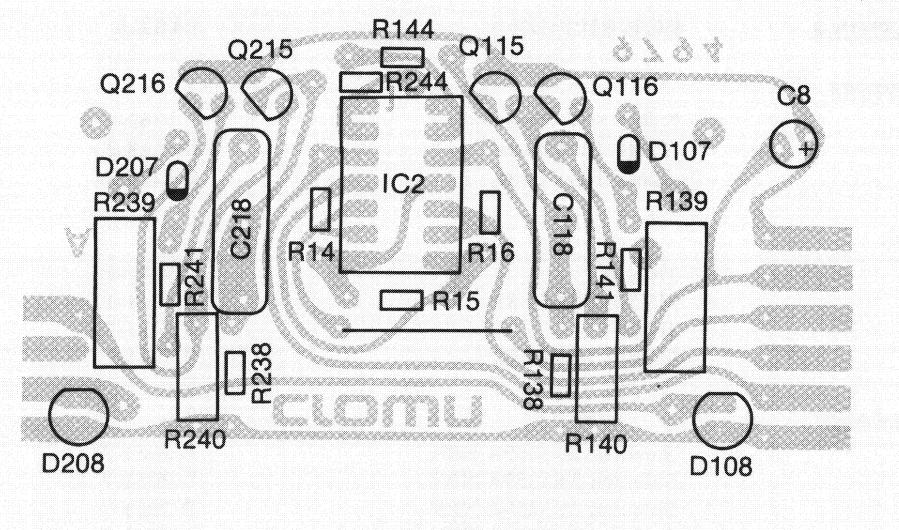compo_name: (91, 58, 183, 106), (508, 341, 554, 419), (34, 440, 112, 485), (585, 67, 667, 106), (362, 8, 441, 48), (637, 182, 715, 222), (158, 420, 233, 461), (219, 28, 299, 66), (240, 336, 281, 410), (93, 144, 165, 185), (682, 448, 761, 485), (376, 62, 452, 100), (452, 28, 530, 65), (173, 245, 216, 312), (543, 183, 579, 263), (416, 281, 487, 321), (589, 234, 627, 307), (220, 193, 256, 267), (282, 229, 345, 271), (645, 131, 718, 167), (90, 183, 162, 218), (559, 425, 631, 459), (372, 163, 429, 202), (462, 235, 520, 268), (772, 76, 821, 113)
